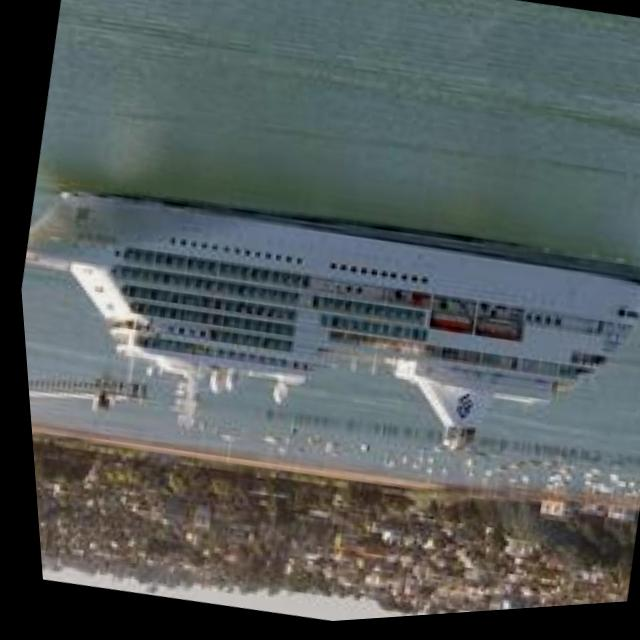ship2: (20, 189, 640, 457)
